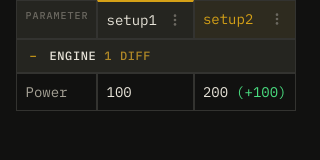
Test: ComparisonTable remove button label › shows "Remove" for a column that is not being edited
What coordinates should you click on to do the following:
click the button named "Actions" next to "setup1"
I would click on:
 (175, 20)
Its box is left=165, top=10, right=185, bottom=30.
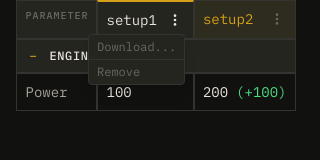
Expected: the button "Remove" is shown, left=89, top=62, right=184, bottom=82
